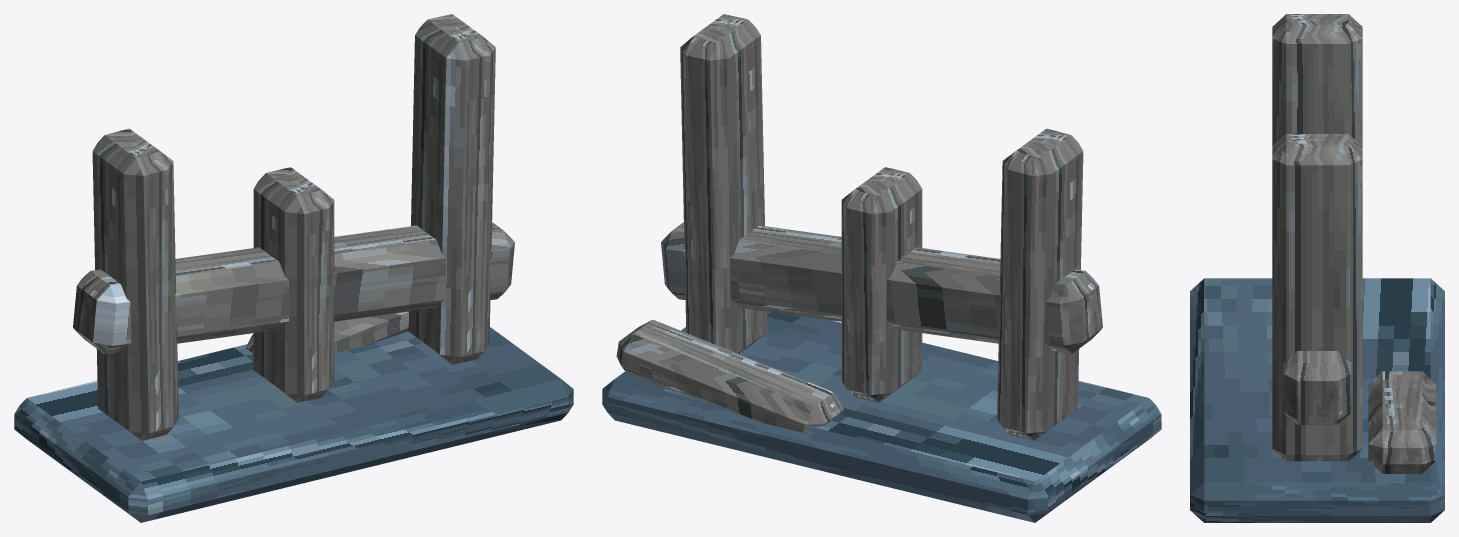
Rendered from barricada_partida.glb.
3 renders of one model, left to right at view 1: azimuth 30°, elevation 25°; view 2: azimuth 150°, elevation 25°; view 3: azimuth 270°, elevation 25°, orthographic.
Visible parts, largest first — view 1: novo_barricada_partida; view 2: novo_barricada_partida; view 3: novo_barricada_partida.
Boxes of the visible parts, bbox=[...] form: novo_barricada_partida: bbox=[14, 14, 573, 522]; novo_barricada_partida: bbox=[602, 14, 1161, 522]; novo_barricada_partida: bbox=[1190, 14, 1444, 522].
Size of the model in its own units: 0.9 by 0.7005 by 0.45.
Materials: 2 (2 with a texture image).
